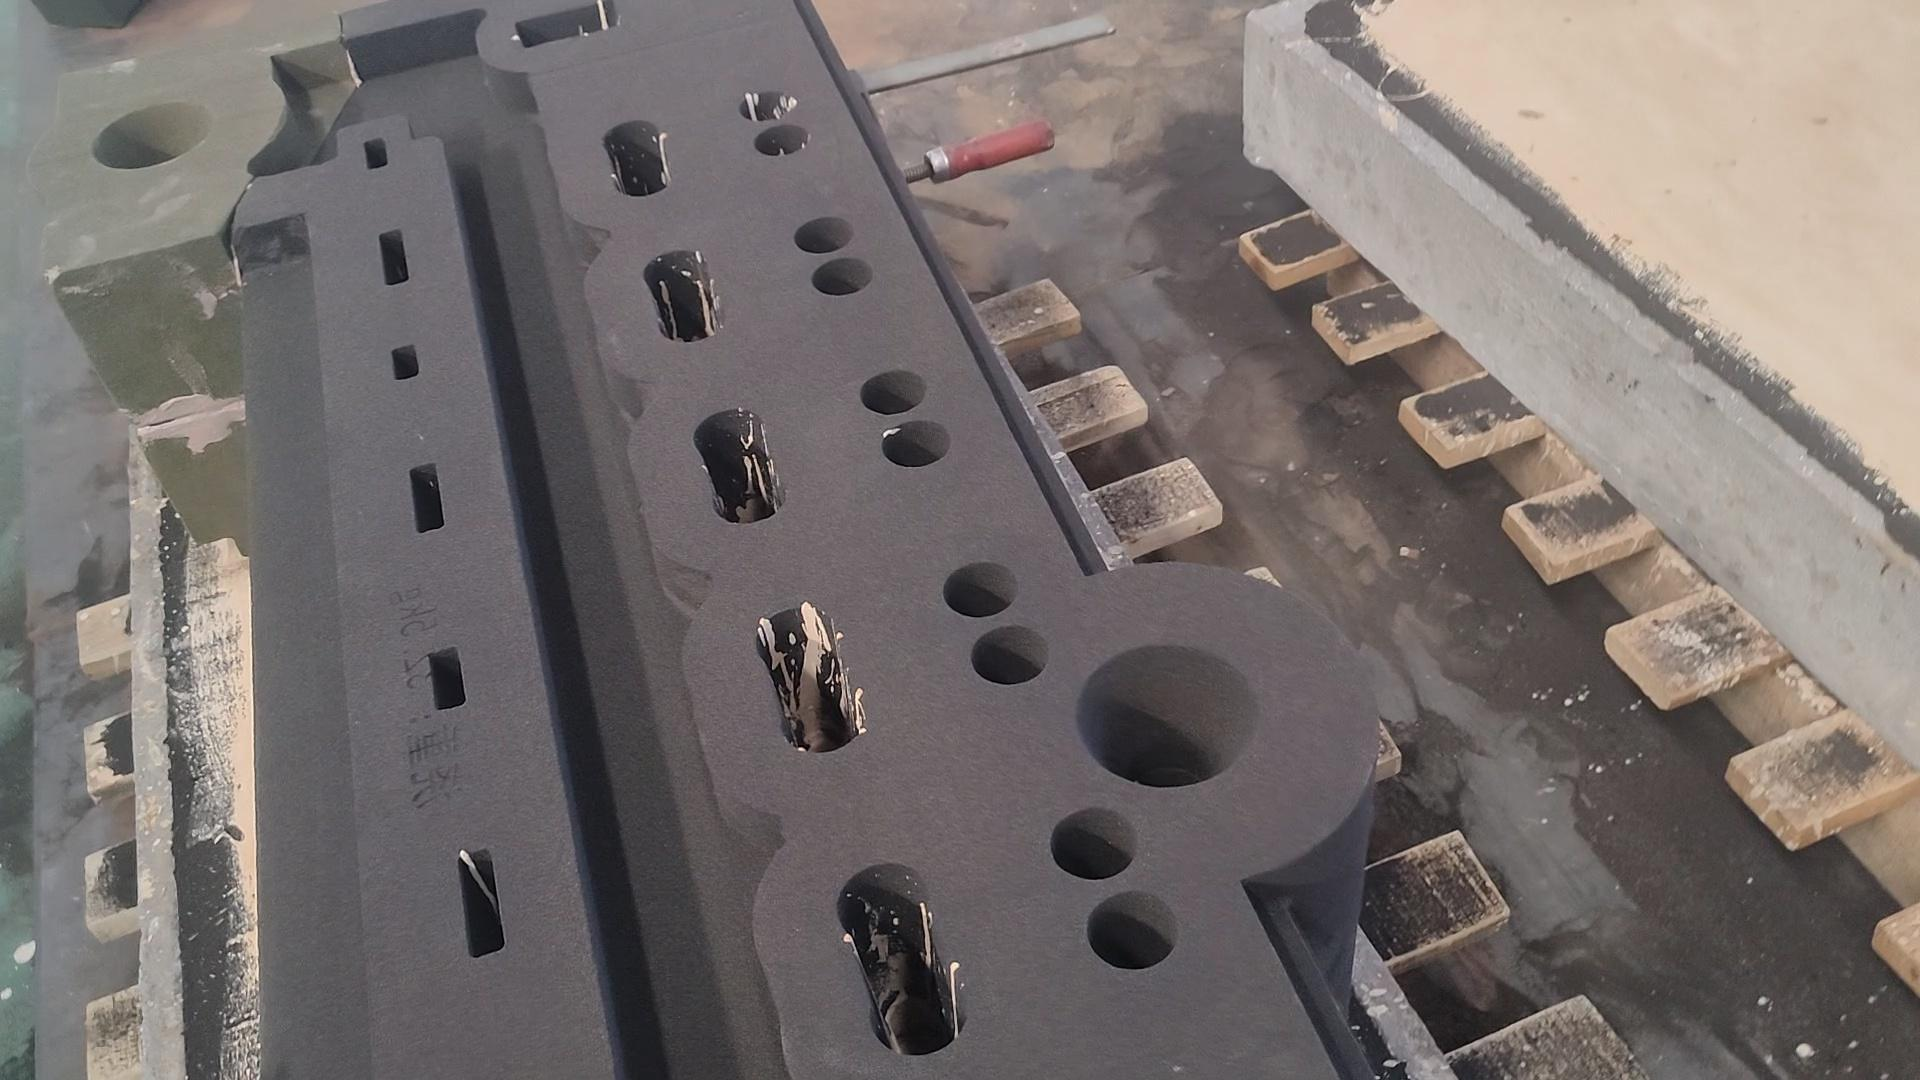pouring hole: (1077, 644, 1257, 787), (88, 98, 214, 167)
